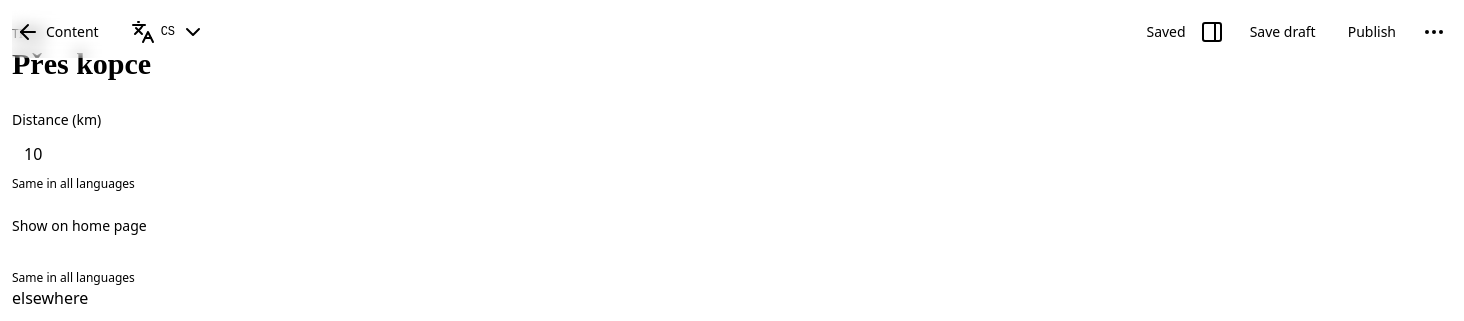
Test case: switching language waits for a save in progress, then opens the other version with the saved shared value
The width and height of the screenshot is (1464, 321).
Expected: the field showing "Přes kopce" is shown, [12,46,1452,86]
Replace the text in the number field labelled "Distance (km)" with "99" at (732, 154), box [12,136,1452,172]
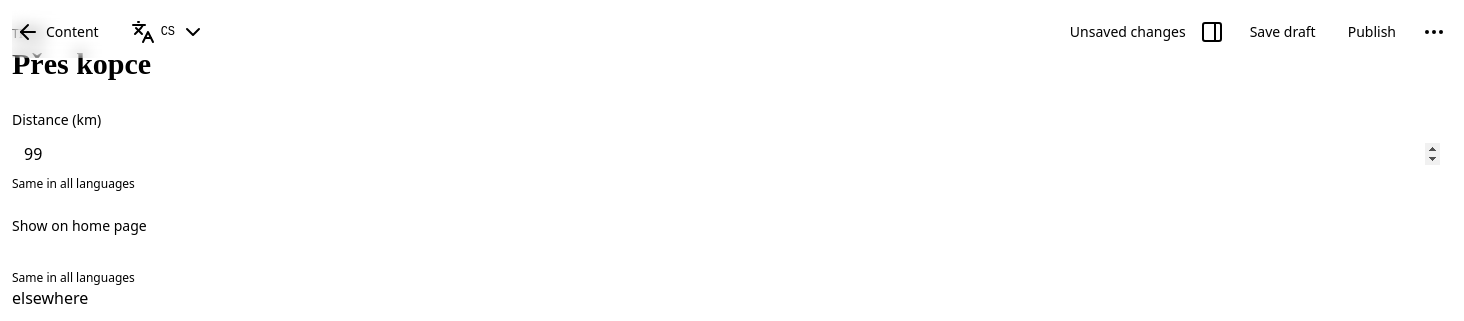
Opening the menu blurs the field, which starts the autosave.
Click the button with aria-label "Language: Čeština" at (168, 32), box [119,16,217,48]
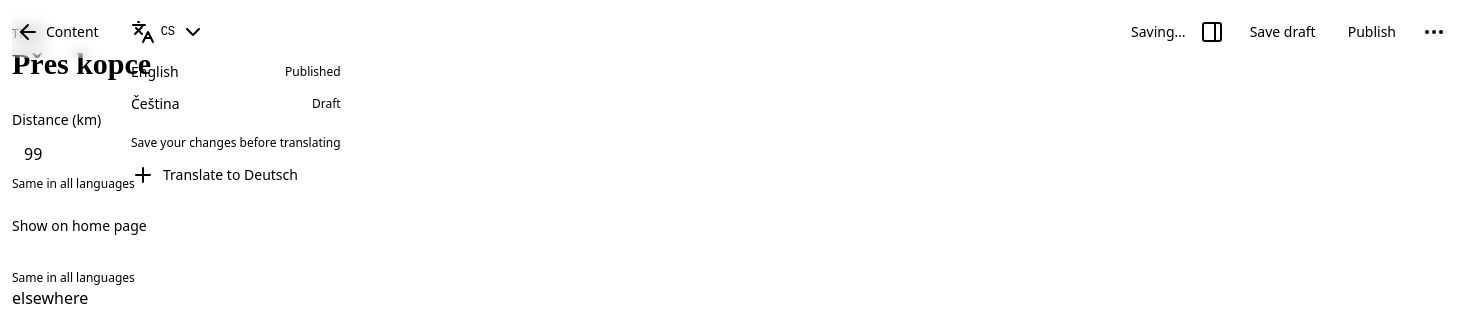
Click the menu item "English Published" at (155, 72), box [131,62,341,81]
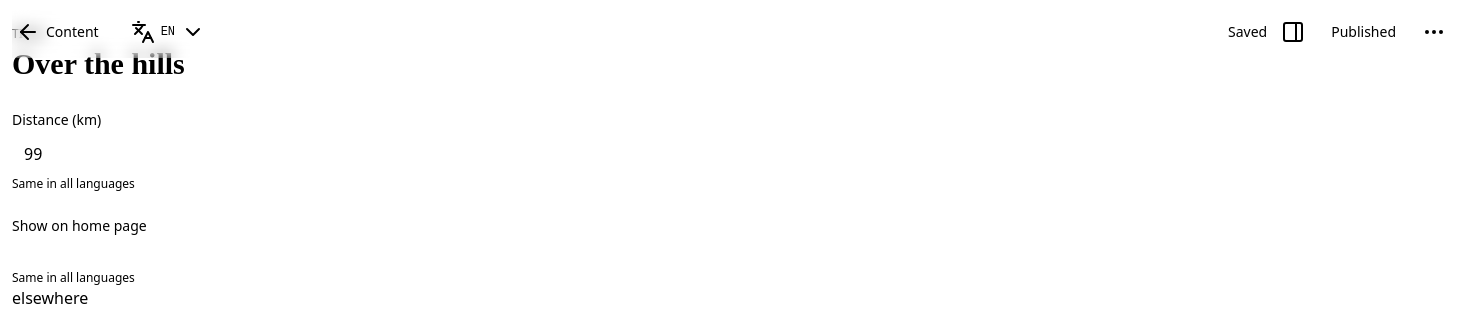
Result: the number field labelled "Distance (km)" holds "99" at [12,136,1452,172]
Result: the field showing "Over the hills" is shown at [12,46,1452,86]
